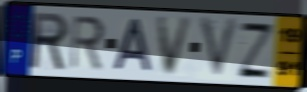A: (111, 17, 154, 74)
R: (30, 11, 71, 73), (69, 14, 107, 71)
V: (198, 15, 242, 83), (155, 16, 195, 79)
Z: (236, 20, 276, 81)
